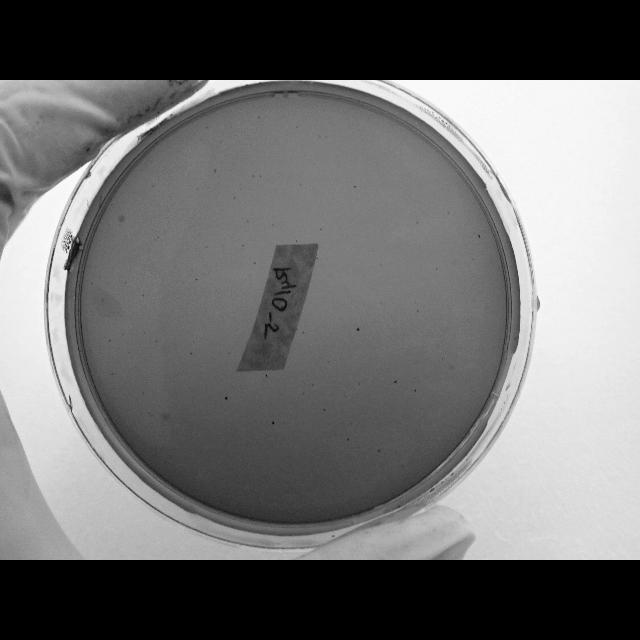colony: (356, 326, 360, 332), (416, 308, 420, 314), (324, 134, 328, 140), (264, 374, 268, 378), (377, 449, 381, 453), (323, 408, 327, 412), (393, 380, 397, 384), (302, 392, 306, 396), (414, 300, 418, 304), (434, 267, 438, 271), (318, 135, 322, 139), (294, 125, 298, 129), (225, 396, 228, 400), (214, 168, 216, 174), (156, 237, 160, 240), (347, 437, 349, 441), (478, 234, 480, 238), (416, 221, 418, 225), (152, 184, 154, 188), (252, 174, 254, 178), (272, 421, 274, 425), (236, 474, 238, 478), (358, 382, 360, 386), (260, 175, 262, 178), (234, 197, 236, 200), (252, 262, 255, 264), (327, 361, 329, 364), (354, 185, 356, 188), (414, 390, 416, 392), (206, 246, 208, 248), (242, 244, 244, 246), (296, 240, 298, 242), (247, 220, 249, 222), (316, 257, 318, 259)
